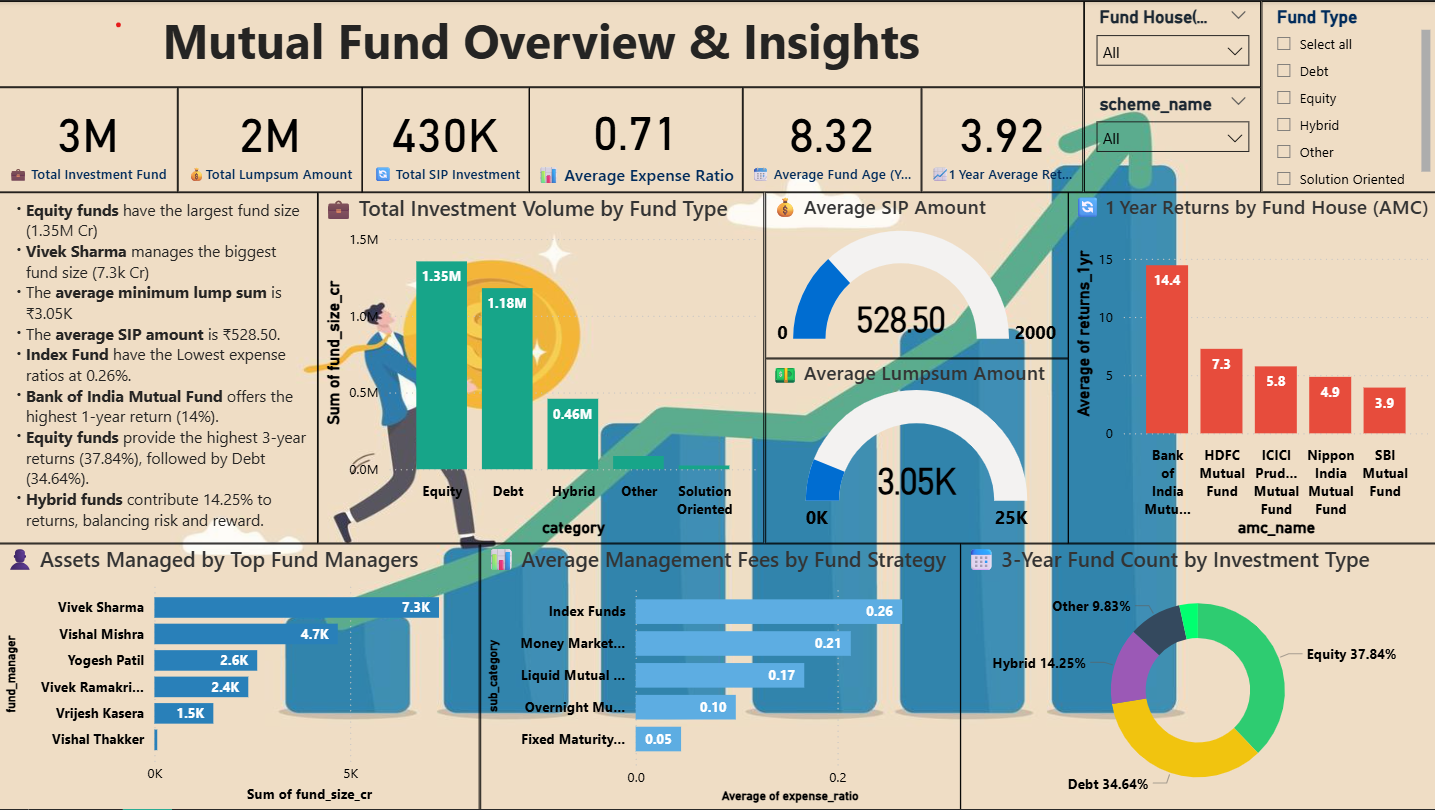

The dashboard page shown, as its layout file describes it:
{"tool":"powerbi","page":{"name":"Page 1","canvas":[1280,720],"ordinal":0},"visuals":[{"type":"donutChart","title":"📅 3-Year Fund Count by Investment Type","fields":{"Category":["Mutual Fund.category"],"Y":["CountNonNull(Mutual Fund.returns_3yr)"]},"box":[856.3,483,424,237.4],"z":0},{"type":"barChart","title":"📊 Average Management Fees by Fund Strategy","fields":{"Category":["Mutual Fund.sub_category"],"Y":["Avg(Mutual Fund.expense_ratio)"]},"box":[428.1,483,428.1,237.4],"z":1000},{"type":"barChart","title":"👤 Assets Managed by Top Fund Managers","fields":{"Category":["Mutual Fund.fund_manager"],"Y":["Sum(Mutual Fund.fund_size_cr)"]},"box":[0,483,428.1,237.4],"z":2000},{"type":"lineStackedColumnComboChart","title":"💼 Total Investment Volume by Fund Type","fields":{"Category":["Mutual Fund.category"],"Y":["Sum(Mutual Fund.fund_size_cr)"]},"box":[284,170.2,397.9,312.9],"z":3000},{"type":"gauge","title":"💵 Average Lumpsum Amount","fields":{"Y":["Avg(Mutual Fund.min_lumpsum)"],"MinValue":["Min(Mutual Fund.min_lumpsum)1"],"MaxValue":["Max(Mutual Fund.min_lumpsum)2"]},"box":[682,318.4,270.3,164.7],"z":4000},{"type":"gauge","title":"💰 Average SIP Amount","fields":{"Y":["Avg(Mutual Fund.min_sip)"],"MinValue":["Min(Mutual Fund.min_sip)1"],"MaxValue":["Max(Mutual Fund.min_sip)2"]},"box":[682,170.2,270.3,148.2],"z":5000},{"type":"columnChart","title":"🔄 1 Year Returns by Fund House (AMC)","fields":{"Category":["Mutual Fund.amc_name"],"Y":["Avg(Mutual Fund.returns_1yr)"]},"box":[952.3,170.2,328,312.9],"z":6000},{"type":"slicer","fields":{"Values":["Mutual Fund.category"]},"box":[1123.8,0,156.4,170.2],"z":7000},{"type":"slicer","fields":{"Values":["Mutual Fund.amc_name"]},"box":[966,0,157.8,76.8],"z":8000},{"type":"slicer","fields":{"Values":["Mutual Fund.scheme_name"]},"box":[966,76.8,157.8,93.3],"z":9000},{"type":"card","fields":{"Values":["Sum(Mutual Fund.fund_size_cr)"]},"box":[0,76.8,159.2,93.3],"z":10000},{"type":"card","fields":{"Values":["Sum(Mutual Fund.min_lumpsum)"]},"box":[159.2,76.8,164.7,93.3],"z":11000},{"type":"card","fields":{"Values":["Sum(Mutual Fund.min_sip)"]},"box":[322.5,76.8,149.6,93.3],"z":12000},{"type":"card","fields":{"Values":["Avg(Mutual Fund.expense_ratio)"]},"box":[472,76.8,190.7,93.3],"z":13000},{"type":"card","fields":{"Values":["Avg(Mutual Fund.fund_age_yr)"]},"box":[662.8,76.8,159.2,93.3],"z":14000},{"type":"card","fields":{"Values":["Avg(Mutual Fund.returns_1yr)"]},"box":[822,76.8,144.1,93.3],"z":15000},{"type":"textbox","box":[0,0,966,76.8],"z":16000},{"type":"textbox","box":[0,170.2,284,312.9],"z":17000}]}

Visuals, with their boxes in screenshot pixels (x1, y1, x2, y2):
"📅 3-Year Fund Count by Investment Type" donutChart: select_region(967, 546, 1434, 809)
"📊 Average Management Fees by Fund Strategy" barChart: select_region(476, 546, 966, 809)
"👤 Assets Managed by Top Fund Managers" barChart: select_region(0, 546, 476, 809)
"💼 Total Investment Volume by Fund Type" lineStackedColumnComboChart: select_region(311, 188, 767, 546)
"💵 Average Lumpsum Amount" gauge: select_region(767, 357, 1077, 546)
"💰 Average SIP Amount" gauge: select_region(767, 188, 1077, 357)
"🔄 1 Year Returns by Fund House (AMC)" columnChart: select_region(1077, 188, 1434, 546)
slicer - Mutual Fund.category: select_region(1273, 0, 1434, 188)
slicer - Mutual Fund.amc_name: select_region(1092, 0, 1273, 81)
slicer - Mutual Fund.scheme_name: select_region(1092, 81, 1273, 188)
card - Sum(Mutual Fund.fund_size_cr): select_region(0, 81, 168, 188)
card - Sum(Mutual Fund.min_lumpsum): select_region(168, 81, 356, 188)
card - Sum(Mutual Fund.min_sip): select_region(355, 81, 526, 188)
card - Avg(Mutual Fund.expense_ratio): select_region(526, 81, 745, 188)
card - Avg(Mutual Fund.fund_age_yr): select_region(745, 81, 927, 188)
card - Avg(Mutual Fund.returns_1yr): select_region(927, 81, 1092, 188)
textbox: select_region(0, 0, 1092, 81)
textbox: select_region(0, 188, 311, 546)
